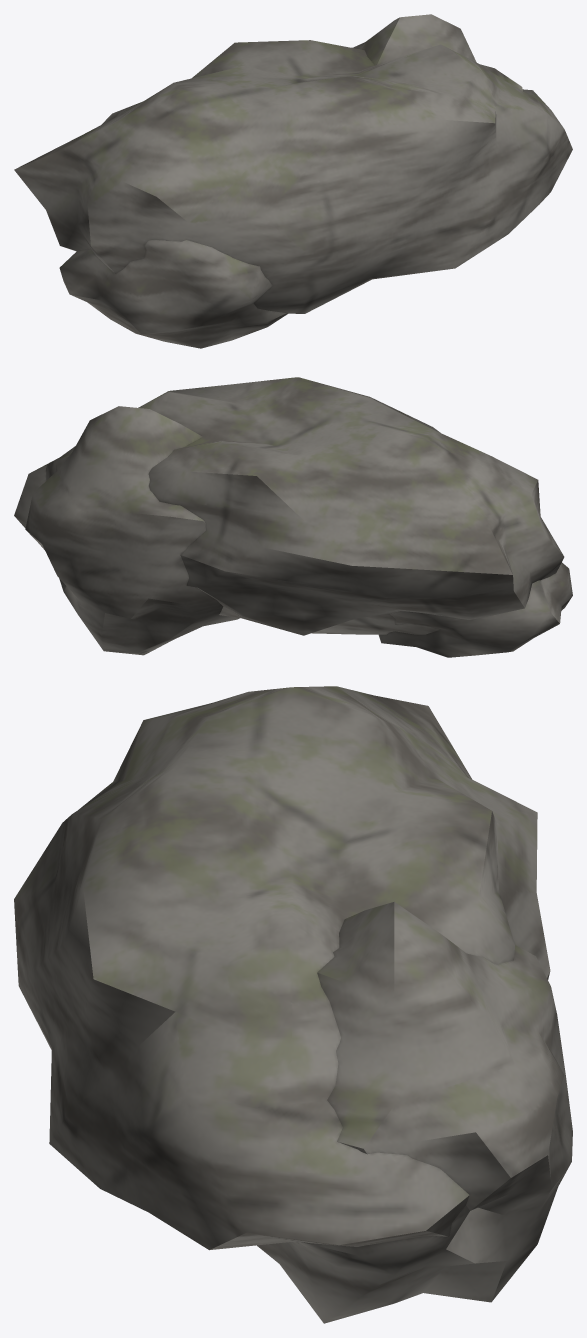
File: rock-b.fbx
The picture shows the model from 3 angles, top to bottom: view 1: azimuth 30°, elevation 25°; view 2: azimuth 150°, elevation 25°; view 3: azimuth 270°, elevation 25°; orthographic projection. The views are drawn at different scales.
Parts seen in each view (by area): view 1: rock-b; view 2: rock-b; view 3: rock-b.
Boxes of the visible parts, bbox=[...] form: rock-b: bbox=[14, 14, 572, 348]; rock-b: bbox=[14, 377, 572, 657]; rock-b: bbox=[14, 686, 572, 1323].
Bounding box in the file's own units: 832 × 370 × 459.
1 material, 1 textured.
